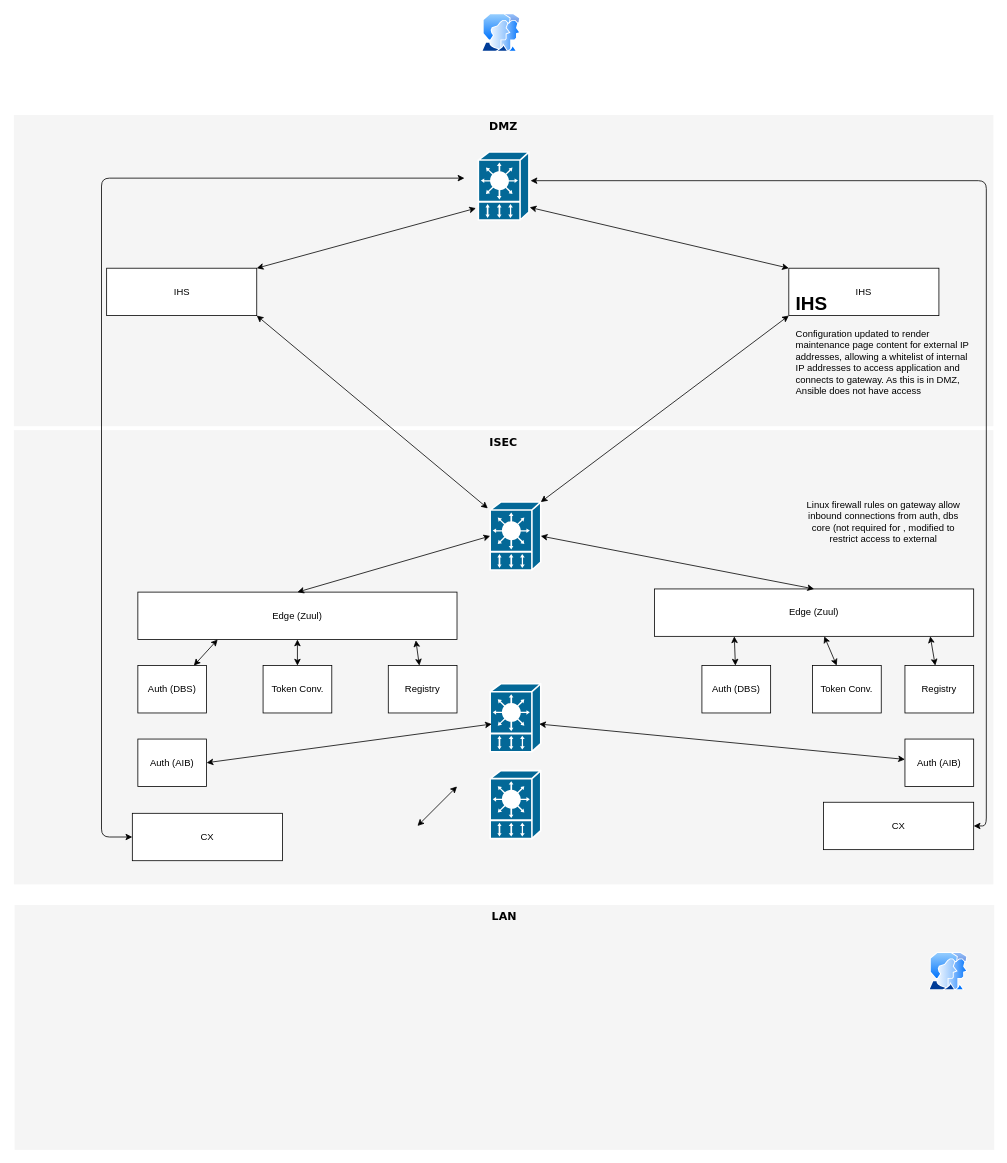
The diagram is 1007 pixels wide and 1163 high, and some of its shapes have lost their labels. The centre of each missing label's shape, as x and y in pixels:
CFI VIP: (515,804)
External Users: (501,32)
Gateway F5 VIP: (515,535)
Helpdesk: (948,971)
IHS F5 VIP: (503,185)
SSO VIP: (515,717)
